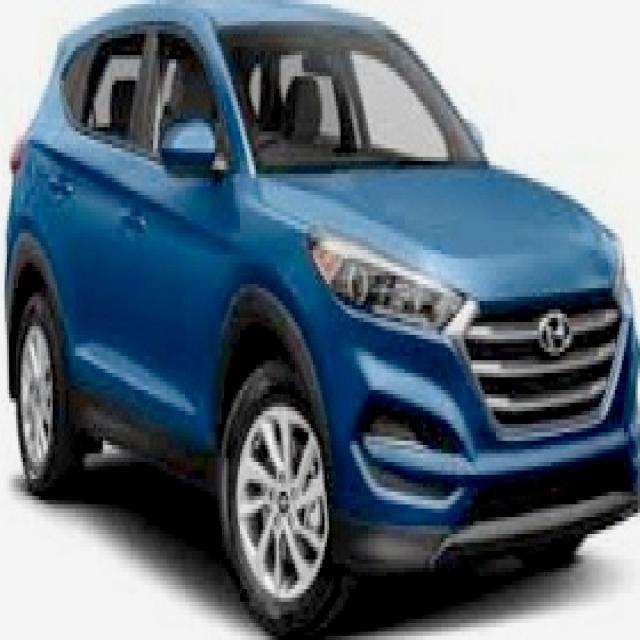blue: (0, 9, 629, 635)
